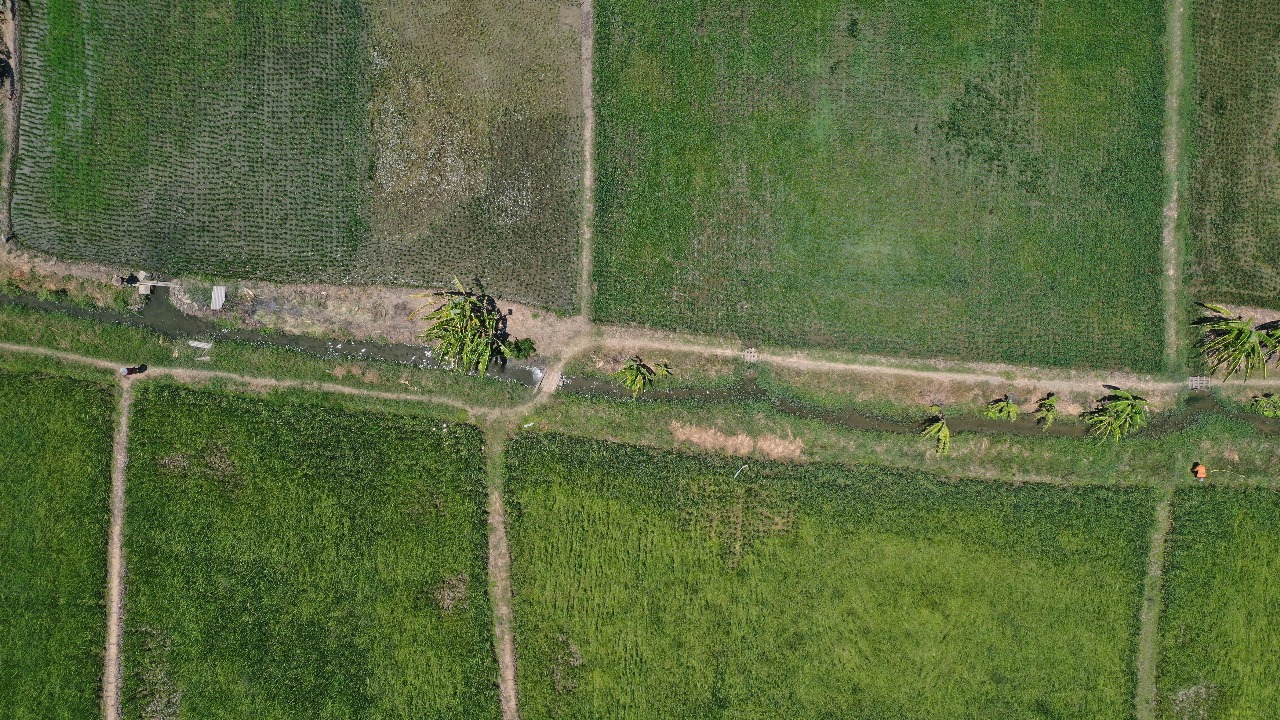irigation: (851, 398, 1280, 451), (622, 379, 864, 428), (500, 354, 651, 405), (192, 314, 335, 358), (93, 288, 189, 351), (331, 327, 438, 377), (6, 281, 94, 334)
